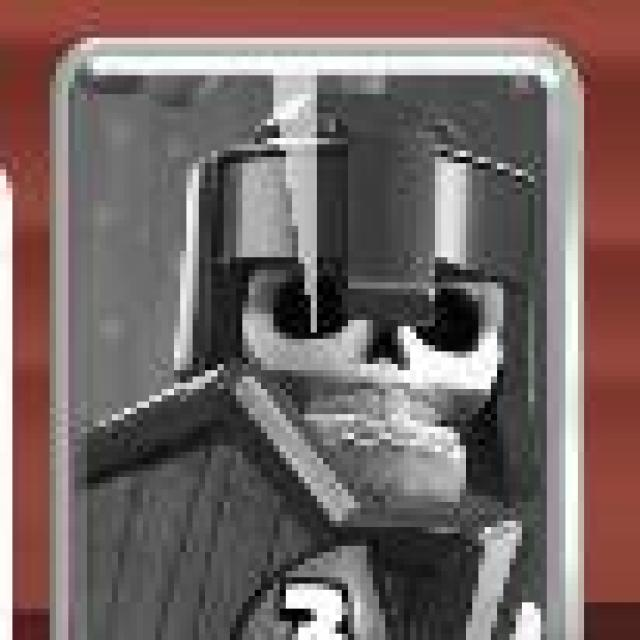Guards: (47, 38, 587, 640)
